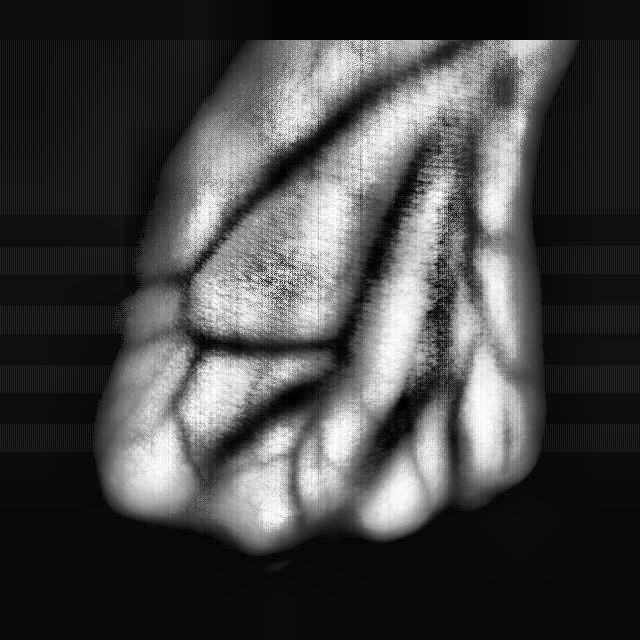Vein: (185, 63, 395, 272), (328, 127, 448, 335)
